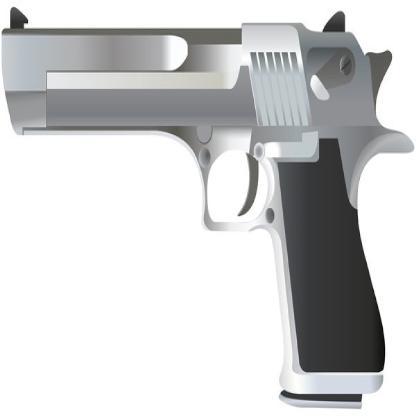handgun: (0, 4, 405, 416)
